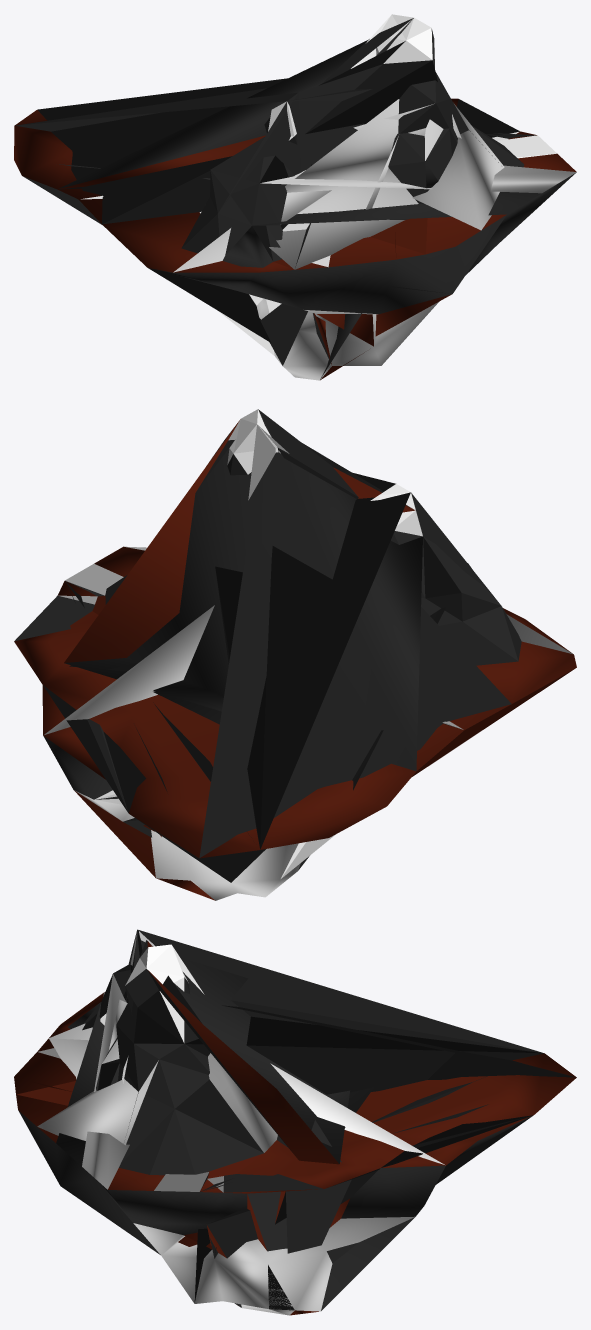
Rendered from island_main.obj.
3 views of the same model, one above another, from view 1: azimuth 30°, elevation 25°; view 2: azimuth 150°, elevation 25°; view 3: azimuth 270°, elevation 25° (orthographic). The views are drawn at different scales.
Parts seen in each view (by area): view 1: Icosphere; view 2: Icosphere; view 3: Icosphere.
Boxes of the visible parts, left/top/right/bottom form: Icosphere: left=14, top=14, right=576, bottom=380; Icosphere: left=14, top=409, right=576, bottom=900; Icosphere: left=14, top=929, right=576, bottom=1315.
Size of the model in its own units: 59.23 by 51.09 by 67.86.
